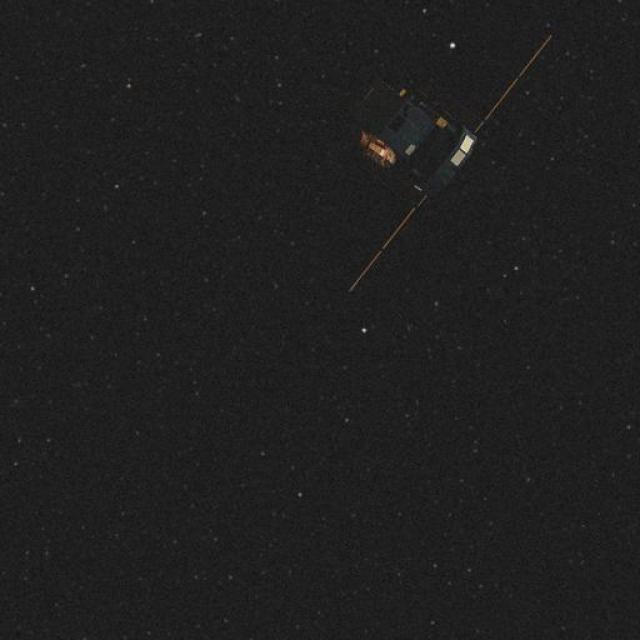soho: (282, 24, 556, 267)
